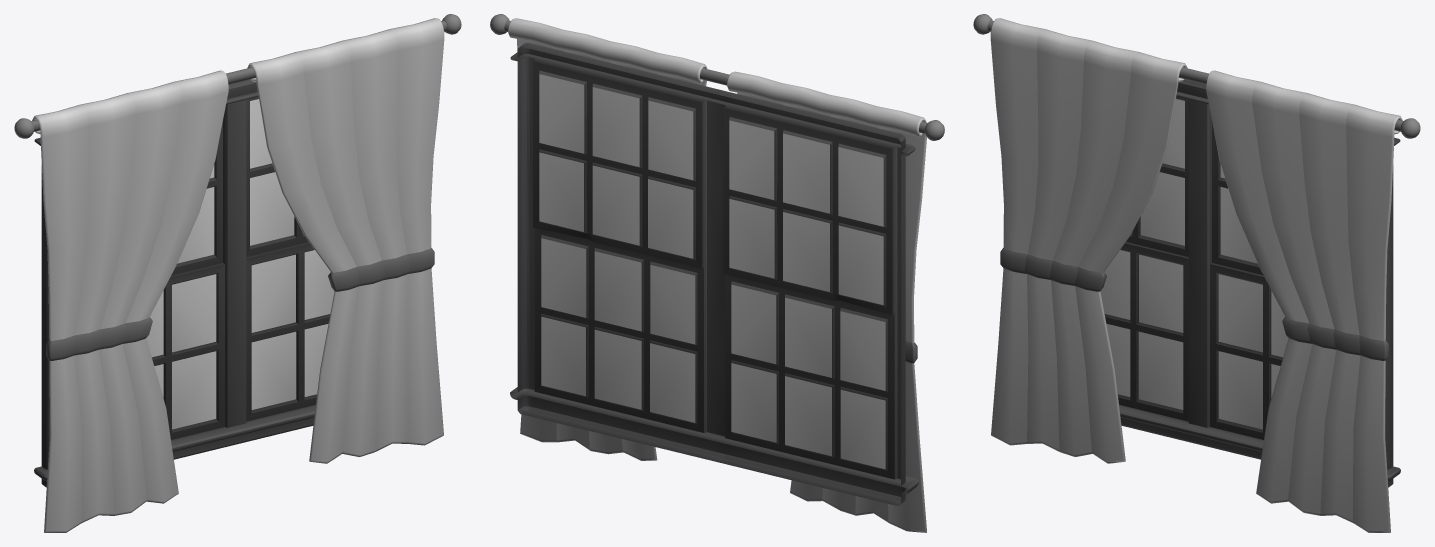
The model's file is window_01.fbx.
The picture shows the model from 3 angles, left to right: view 1: azimuth 30°, elevation 25°; view 2: azimuth 150°, elevation 25°; view 3: azimuth 330°, elevation 25°; orthographic projection.
Parts seen in each view (by area): view 1: window_01; view 2: window_01; view 3: window_01.
Part boxes in pixels (box(x1,y1,x2,y2)): window_01: box(14, 14, 461, 532); window_01: box(490, 14, 944, 532); window_01: box(973, 14, 1420, 532).
Size of the model in its own units: 1.87 by 1.68 by 0.1184.
